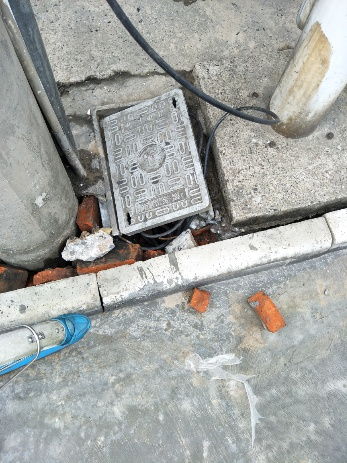uncovered: (90, 91, 213, 238)
